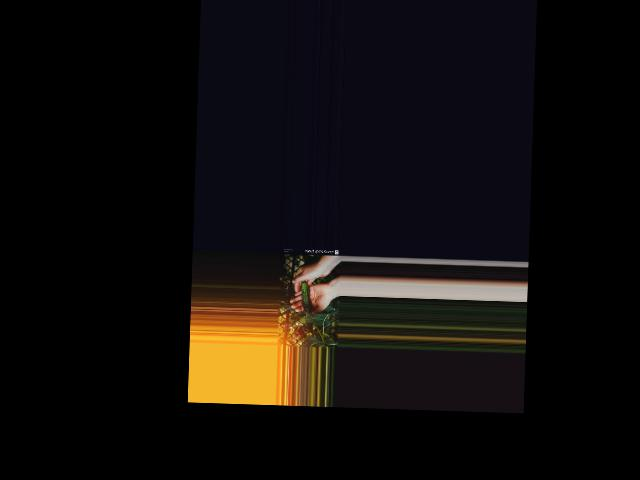cucumber: (300, 281, 312, 312)
